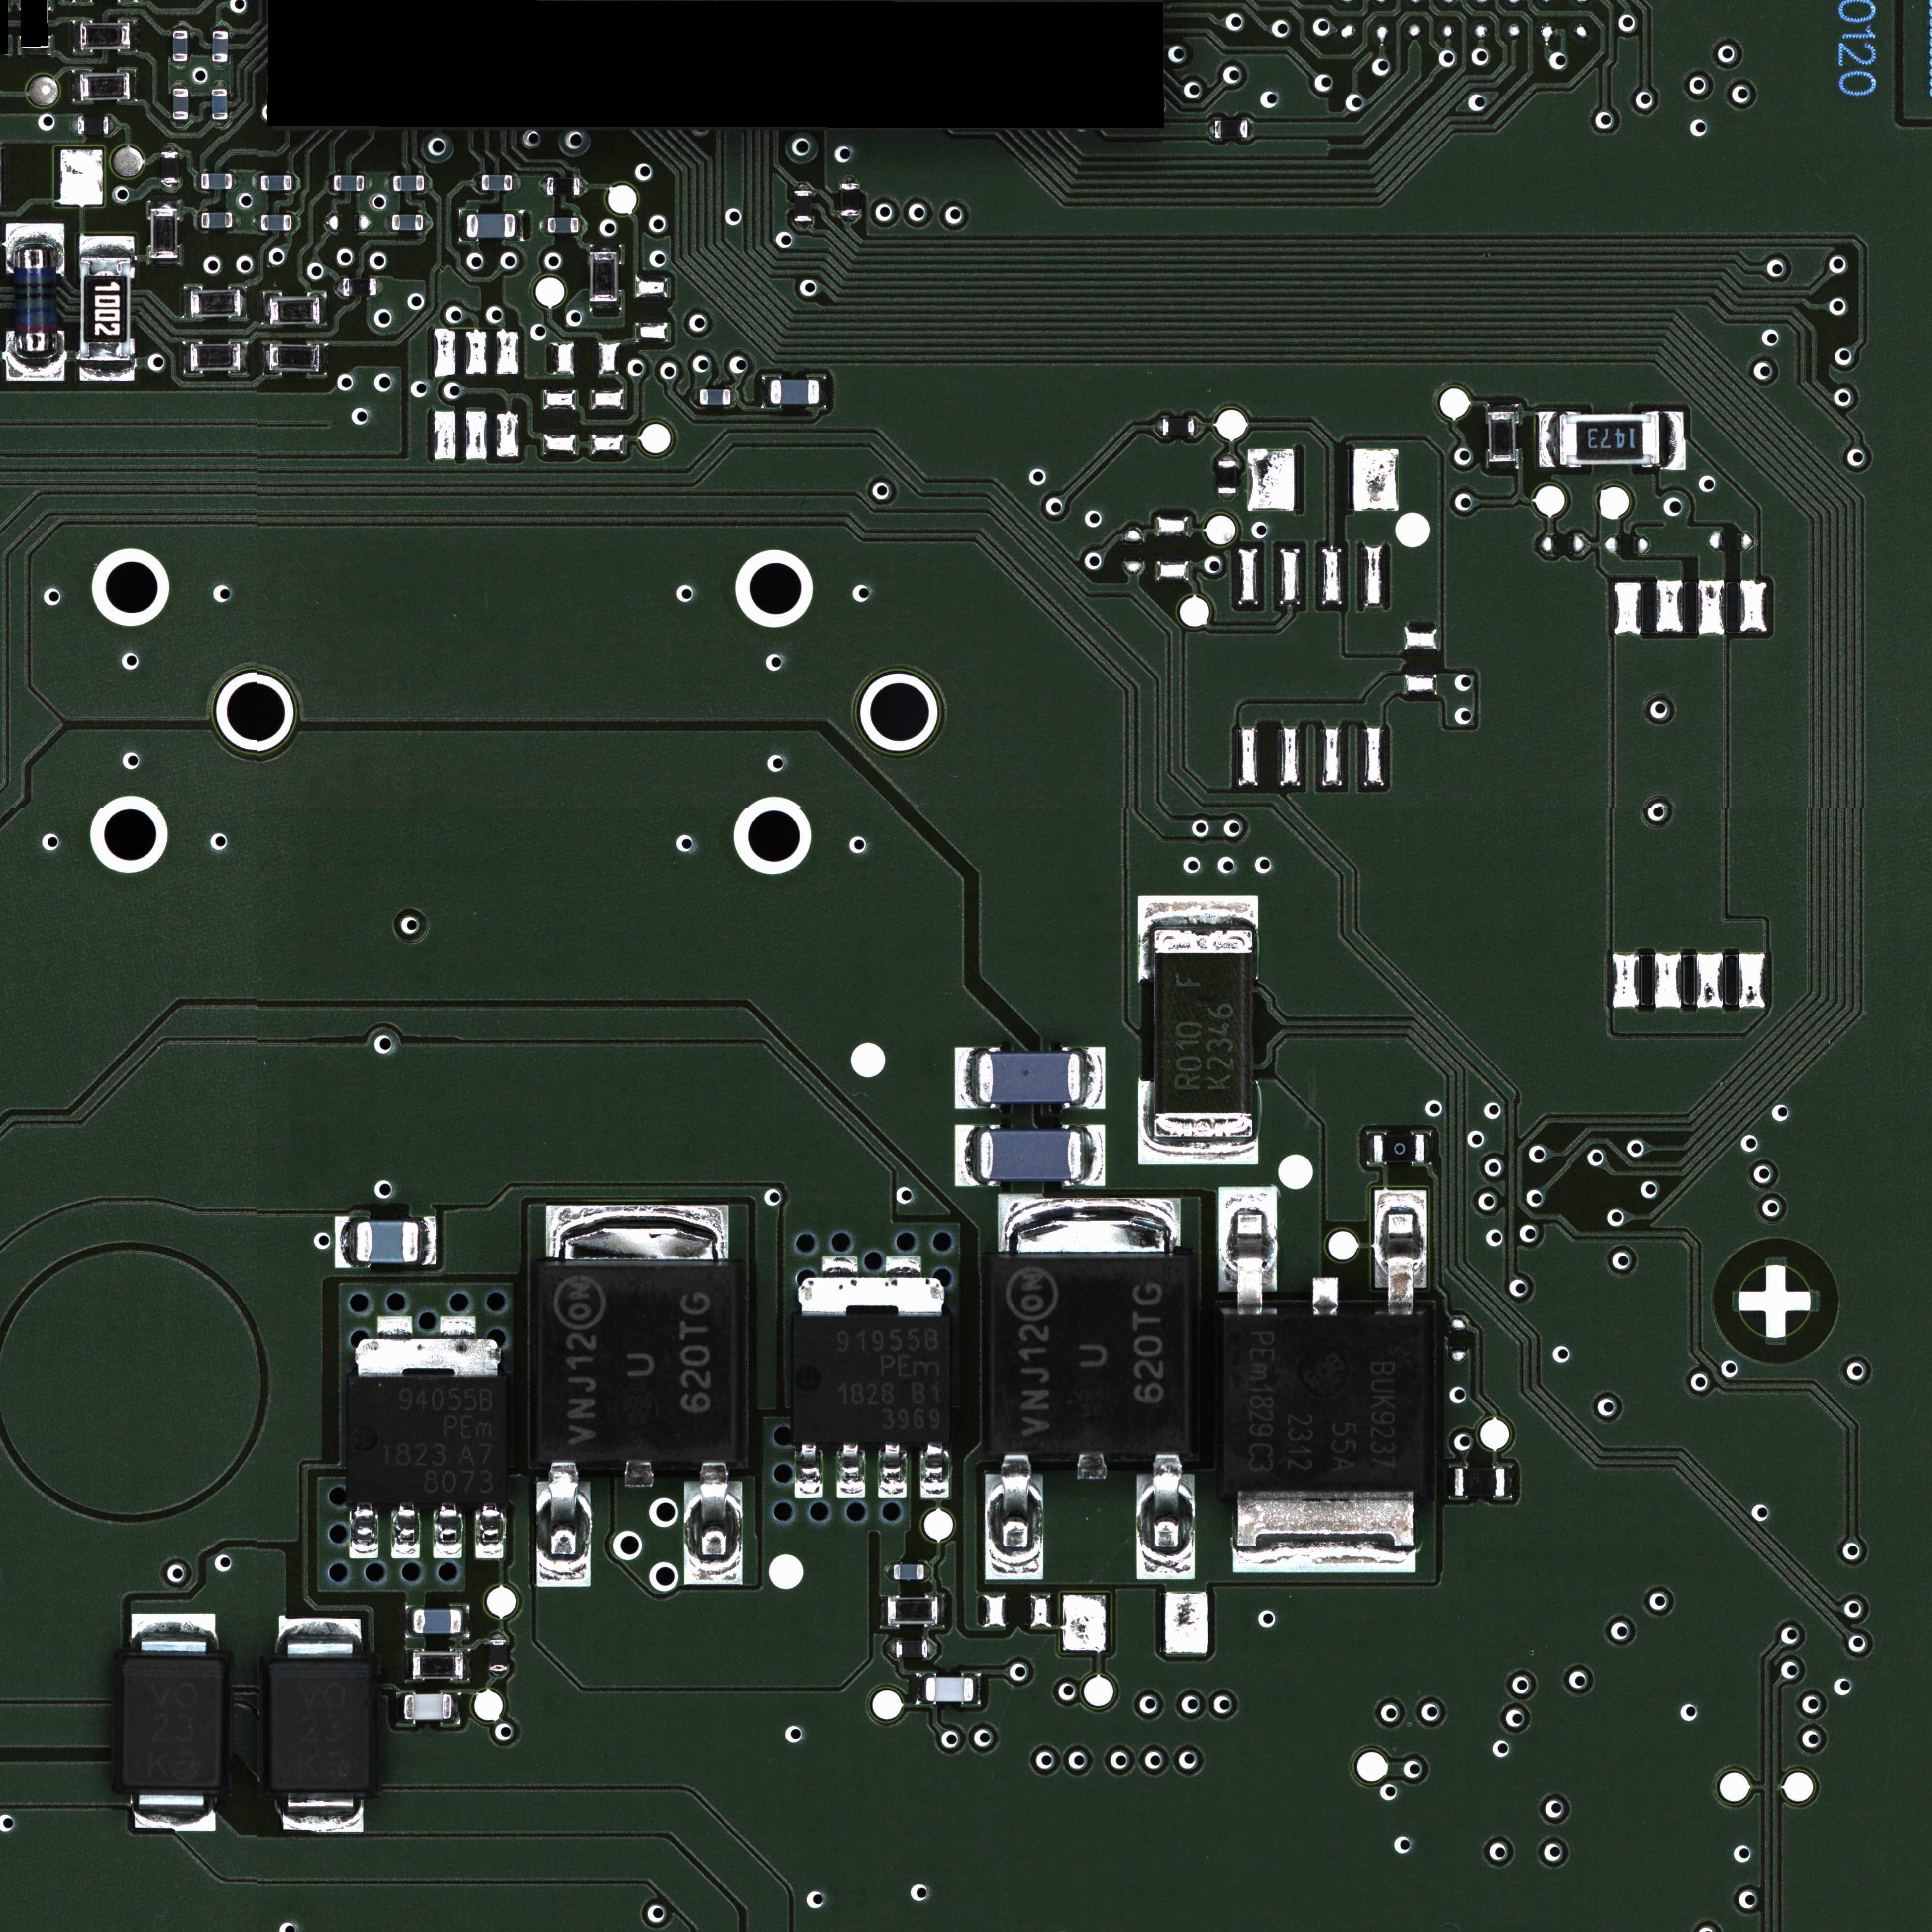Package: (531, 1264, 746, 1460), (982, 1259, 1197, 1451), (1220, 1316, 1434, 1490), (347, 1377, 509, 1503), (790, 1316, 952, 1441), (1155, 953, 1254, 1135), (1155, 953, 1254, 1136), (263, 1659, 375, 1797), (114, 1656, 224, 1792), (81, 257, 133, 361), (978, 1052, 1081, 1103), (979, 1130, 1082, 1181), (1560, 414, 1660, 465), (14, 245, 55, 353), (356, 1221, 421, 1263), (1374, 1134, 1424, 1163), (1455, 1469, 1505, 1497), (191, 290, 241, 316), (80, 24, 130, 50), (191, 345, 240, 371), (269, 298, 319, 324), (888, 1598, 938, 1624), (269, 345, 319, 371), (151, 209, 177, 258), (80, 74, 130, 99), (1490, 412, 1515, 462), (591, 253, 617, 301), (770, 380, 819, 404), (404, 1695, 452, 1720), (467, 213, 516, 238), (413, 1609, 461, 1634), (926, 1677, 974, 1702), (413, 1654, 463, 1678), (1218, 460, 1238, 493), (1214, 119, 1248, 139), (490, 1639, 509, 1672), (840, 184, 859, 216), (343, 279, 377, 296), (547, 178, 580, 195), (1163, 418, 1194, 436), (794, 190, 812, 222), (895, 1641, 927, 1658), (161, 151, 179, 183), (78, 117, 109, 135), (393, 175, 425, 192), (481, 174, 513, 191), (201, 212, 233, 228), (699, 389, 730, 405), (334, 175, 365, 191), (392, 214, 423, 231), (213, 30, 229, 62), (212, 88, 228, 120), (261, 214, 291, 231), (201, 173, 232, 189), (173, 89, 189, 120), (261, 175, 291, 191), (548, 217, 579, 233), (173, 30, 188, 61), (894, 1564, 924, 1580)
Solder: (1231, 1491, 1415, 1572), (999, 1196, 1182, 1257), (546, 1205, 728, 1264), (1136, 1452, 1195, 1580), (1219, 1186, 1277, 1314), (986, 1453, 1043, 1581), (684, 1461, 742, 1585), (1373, 1188, 1428, 1316), (537, 1461, 592, 1586), (1136, 895, 1258, 929), (1139, 1135, 1259, 1165), (131, 1613, 215, 1654), (279, 1616, 361, 1657), (132, 1794, 215, 1831), (283, 1799, 365, 1832), (920, 1442, 951, 1498), (836, 1442, 866, 1498), (794, 1442, 823, 1498), (878, 1442, 907, 1498), (475, 1506, 505, 1558), (350, 1504, 379, 1558), (391, 1505, 421, 1558), (434, 1505, 463, 1558), (6, 355, 64, 381), (1661, 412, 1685, 470), (955, 1126, 978, 1186), (1083, 1047, 1105, 1109), (955, 1048, 977, 1107), (1083, 1125, 1105, 1186), (79, 236, 135, 257), (4, 224, 65, 243), (79, 362, 136, 382), (1539, 412, 1559, 467), (1312, 1277, 1339, 1315), (335, 1217, 354, 1268), (886, 1256, 922, 1278), (1077, 1452, 1107, 1480), (440, 1316, 476, 1339), (422, 1214, 437, 1266), (624, 1460, 654, 1487), (378, 1316, 412, 1338), (822, 1256, 857, 1277), (1444, 1462, 1454, 1498), (1506, 1462, 1515, 1499), (915, 1673, 925, 1704), (147, 198, 181, 208), (760, 375, 770, 408), (70, 70, 80, 102), (452, 1693, 462, 1724), (589, 302, 622, 311), (819, 375, 828, 407), (462, 1605, 470, 1638), (1365, 1132, 1373, 1164), (1487, 403, 1519, 411), (516, 210, 525, 241), (395, 1693, 404, 1723), (458, 209, 466, 241), (71, 21, 79, 52), (464, 1650, 472, 1682), (1425, 1133, 1433, 1164), (405, 1606, 413, 1637), (241, 342, 248, 372), (130, 70, 138, 100), (320, 294, 328, 325), (974, 1673, 982, 1705), (182, 342, 190, 374), (149, 259, 180, 266), (183, 287, 190, 318), (18, 48, 51, 55), (1488, 463, 1518, 470), (131, 20, 138, 52), (589, 245, 621, 251), (938, 1596, 945, 1625), (880, 1596, 887, 1626), (405, 1651, 412, 1682), (841, 215, 860, 225), (792, 221, 814, 229), (580, 178, 589, 197), (320, 344, 326, 372), (264, 343, 269, 372), (264, 294, 269, 326), (1195, 416, 1203, 437), (888, 1640, 897, 1658), (538, 177, 546, 195), (241, 287, 246, 318), (731, 388, 739, 407), (160, 143, 180, 150), (211, 80, 229, 88), (171, 120, 190, 128), (474, 173, 481, 193), (1155, 417, 1162, 436), (212, 62, 229, 70), (172, 22, 189, 30), (160, 184, 180, 191), (692, 388, 699, 407), (540, 216, 547, 235), (1217, 494, 1237, 500), (924, 1563, 931, 1581), (927, 1641, 934, 1658), (424, 213, 431, 231), (885, 1563, 892, 1580), (212, 120, 230, 127), (1207, 120, 1214, 139), (579, 217, 586, 234), (793, 183, 813, 189), (253, 213, 260, 231), (212, 22, 229, 29), (172, 81, 189, 88), (377, 278, 383, 297), (71, 117, 77, 134), (1248, 120, 1254, 138), (513, 174, 520, 191), (233, 173, 239, 190), (292, 175, 298, 192), (490, 1633, 508, 1639), (490, 1672, 508, 1678), (233, 212, 240, 228), (292, 214, 299, 230), (365, 175, 372, 191), (840, 177, 859, 182), (336, 279, 342, 295), (426, 175, 432, 192), (1219, 454, 1237, 460), (172, 62, 188, 68), (195, 211, 200, 229), (254, 174, 260, 192), (327, 174, 333, 192), (386, 214, 392, 231), (109, 117, 115, 134), (195, 173, 200, 190), (387, 175, 392, 192)
